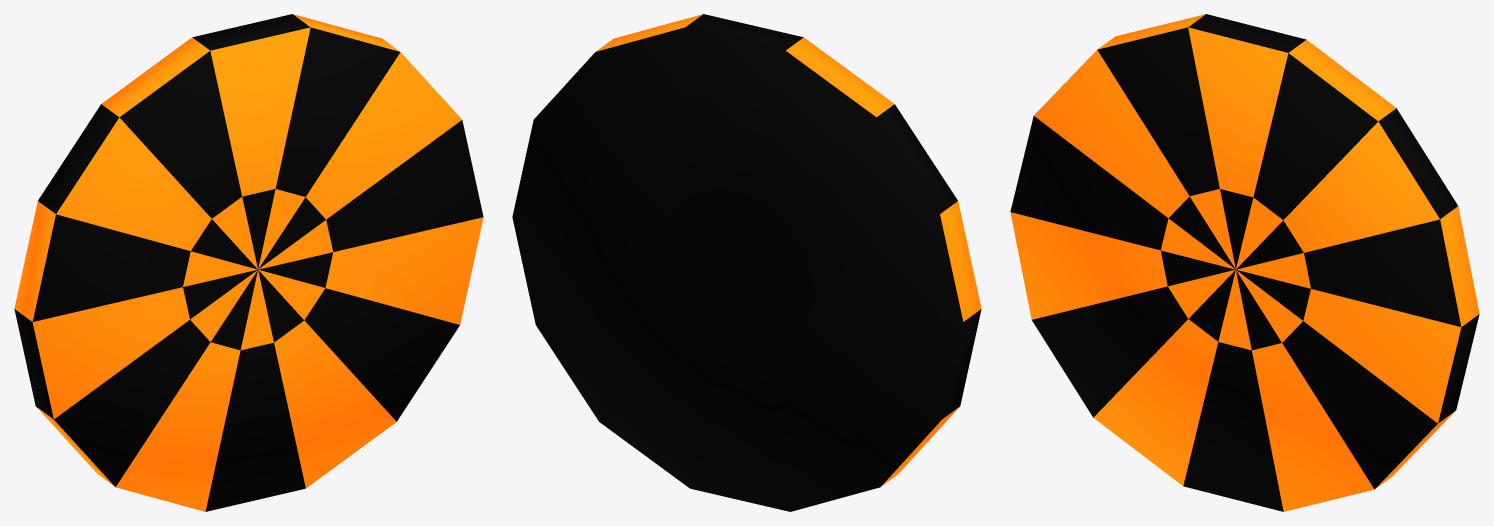
File: blanco (1).FBX
3 views of the same model, side by side, from view 1: azimuth 30°, elevation 25°; view 2: azimuth 150°, elevation 25°; view 3: azimuth 330°, elevation 25° (orthographic).
Visible parts, largest first — view 1: Blanco1; view 2: Blanco1; view 3: Blanco1.
Boxes of the visible parts, left/top/right/bottom form: Blanco1: left=14, top=14, right=483, bottom=511; Blanco1: left=512, top=14, right=981, bottom=511; Blanco1: left=1010, top=14, right=1479, bottom=511.
Bounding box in the file's own units: 99.99 × 7 × 97.73.
